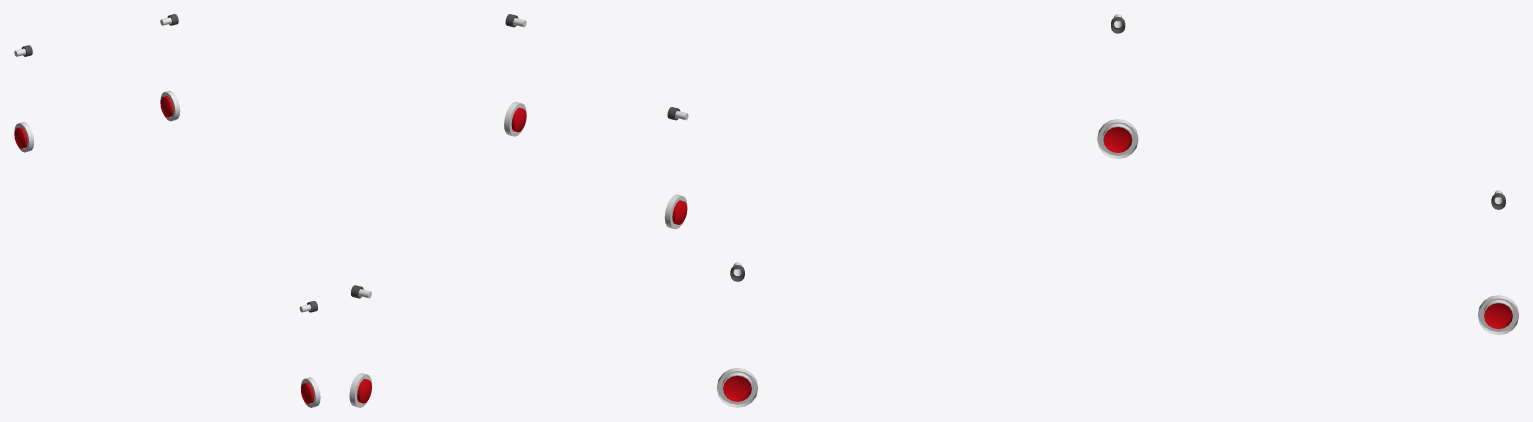
Rendered from buttoms.fbx.
3 views of the same model, side by side, from view 1: azimuth 30°, elevation 25°; view 2: azimuth 150°, elevation 25°; view 3: azimuth 270°, elevation 25° (orthographic). The views are drawn at different scales.
Visible parts, largest first — view 1: Buttom (2), Buttom(3), Buttom (1); view 2: Buttom (2), Buttom(3), Buttom (1); view 3: Buttom (2), Buttom (1), Buttom(3).
Boxes of the visible parts, x1,y1,x2,y2 form: Buttom (2): [160, 90, 180, 121]; Buttom(3): [300, 377, 320, 407]; Buttom (1): [14, 122, 33, 152]; Buttom (2): [504, 102, 526, 136]; Buttom(3): [664, 194, 687, 229]; Buttom (1): [349, 373, 371, 407]; Buttom (2): [1097, 119, 1138, 158]; Buttom (1): [1478, 295, 1518, 335]; Buttom(3): [717, 368, 757, 407].
Bounding box in the file's own units: 11.97 × 168 × 313.
